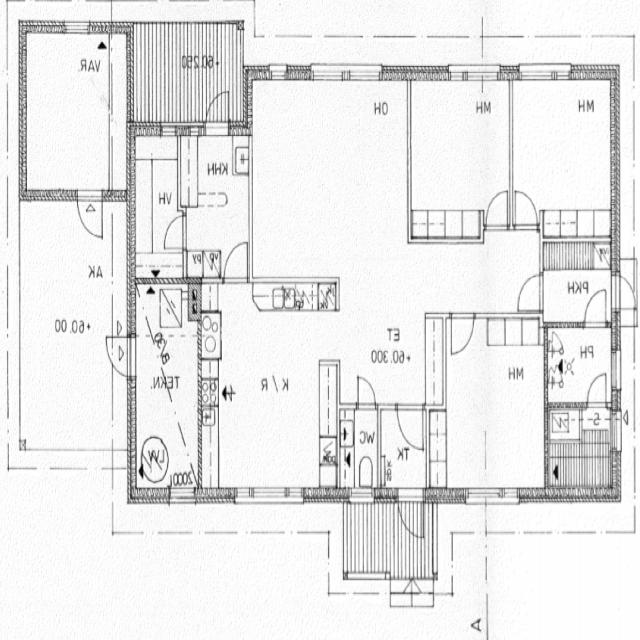door: (398, 488, 424, 543), (101, 336, 136, 376), (78, 189, 102, 239), (398, 403, 423, 449), (206, 86, 229, 135), (224, 240, 248, 282), (516, 274, 544, 310), (611, 275, 640, 308), (452, 312, 474, 353), (516, 191, 537, 231), (487, 192, 508, 230), (585, 289, 606, 327), (163, 216, 186, 249), (588, 374, 606, 408), (358, 376, 376, 408)
